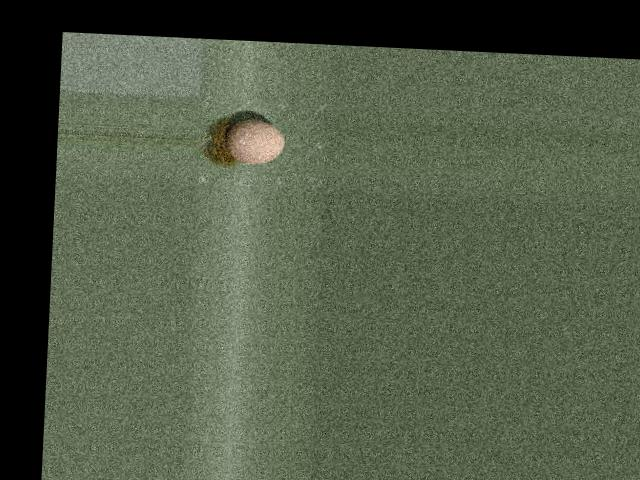egg: (226, 118, 286, 165)
